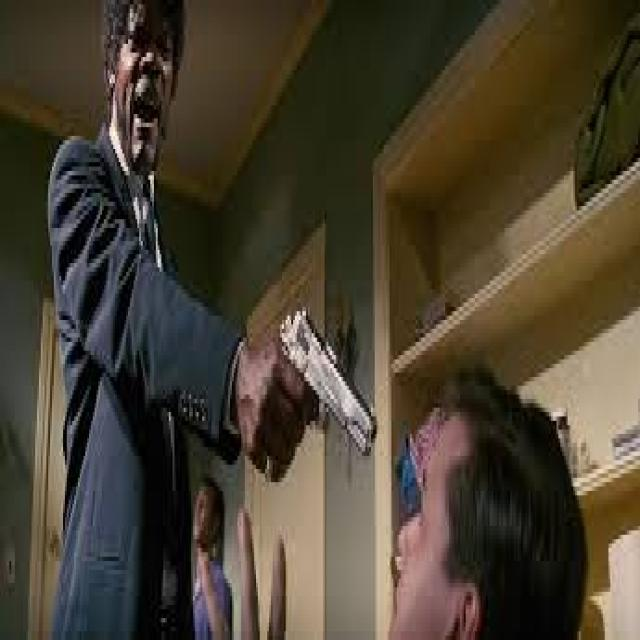weapons: (252, 247, 383, 488)
